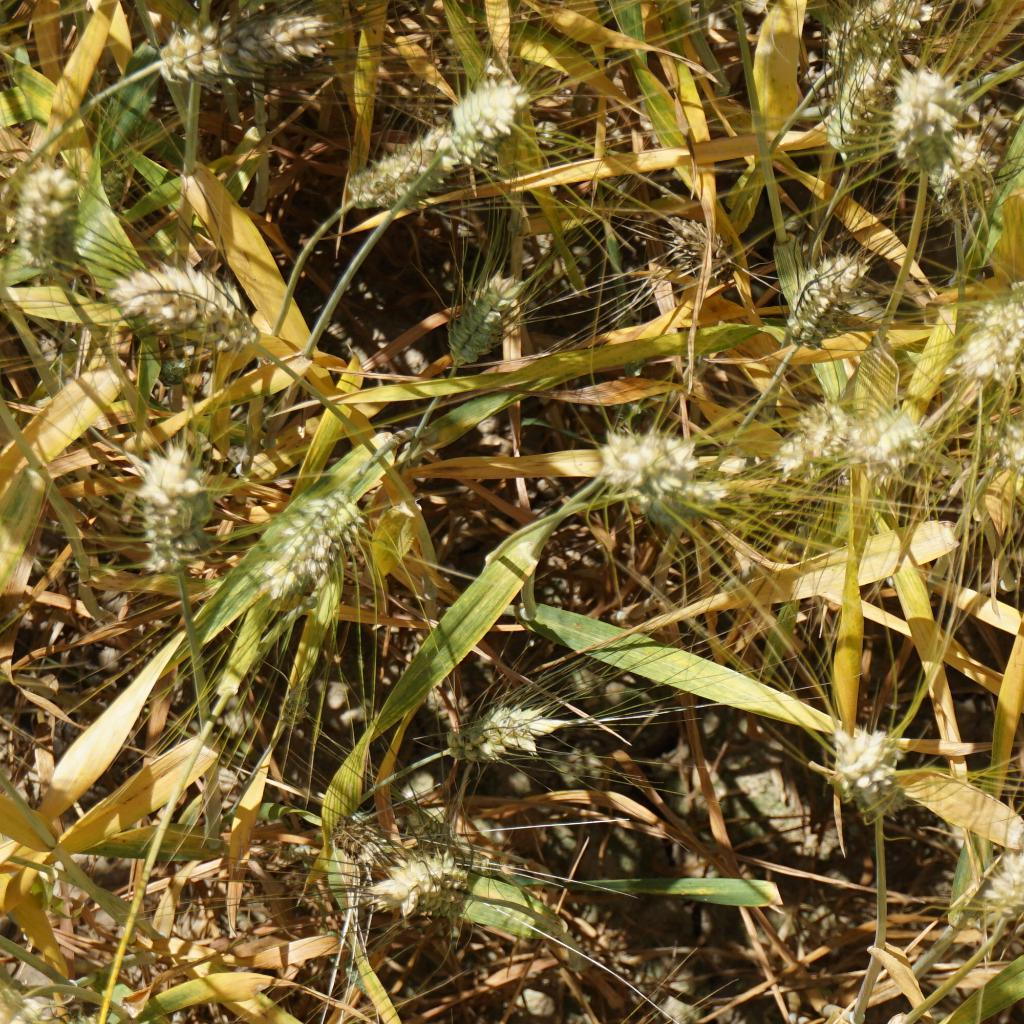0-0: (108, 240, 272, 366), (572, 401, 724, 525), (146, 5, 340, 88), (336, 139, 458, 229), (256, 474, 356, 581), (440, 264, 540, 369), (137, 433, 206, 584), (770, 251, 874, 350), (6, 167, 88, 281), (943, 287, 1024, 399), (425, 691, 541, 765), (376, 833, 468, 925), (775, 391, 870, 480), (645, 207, 749, 286), (828, 726, 909, 825), (843, 406, 941, 484), (433, 76, 539, 145), (889, 62, 958, 165), (838, 58, 898, 165), (839, 0, 941, 60), (935, 121, 996, 210), (988, 844, 1024, 941), (86, 160, 137, 214), (992, 406, 1024, 488), (0, 972, 39, 1024)
